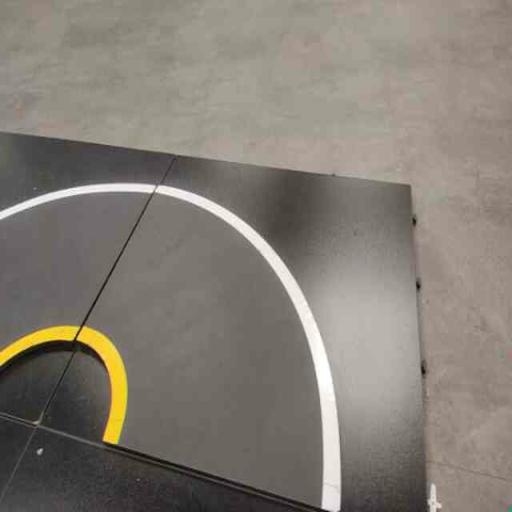left: (38, 180, 364, 511)
